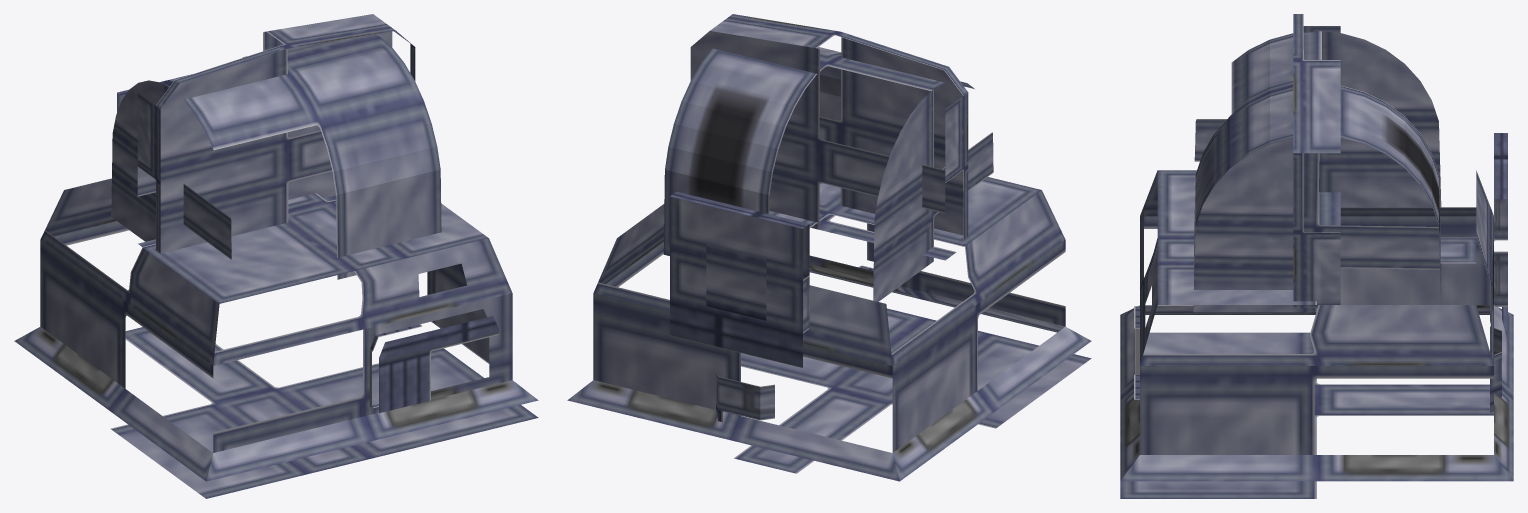
The model's file is Compressor.obj.
3 views of the same model, side by side, from view 1: azimuth 30°, elevation 25°; view 2: azimuth 150°, elevation 25°; view 3: azimuth 270°, elevation 25° (orthographic). The views are drawn at different scales.
Parts seen in each view (by area): view 1: Compressor_Crusher; view 2: Compressor_Crusher; view 3: Compressor_Crusher.
Part boxes in pixels (x1,y1,x2,y2): Compressor_Crusher: [14, 14, 538, 498]; Compressor_Crusher: [567, 14, 1091, 481]; Compressor_Crusher: [1120, 14, 1513, 498].
Size of the model in its own units: 2 by 2 by 2.
